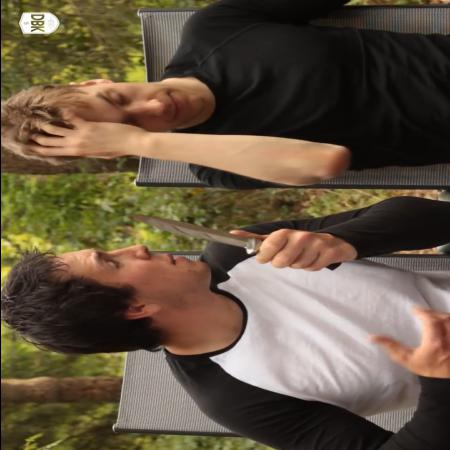long weapon: (107, 206, 344, 274)
